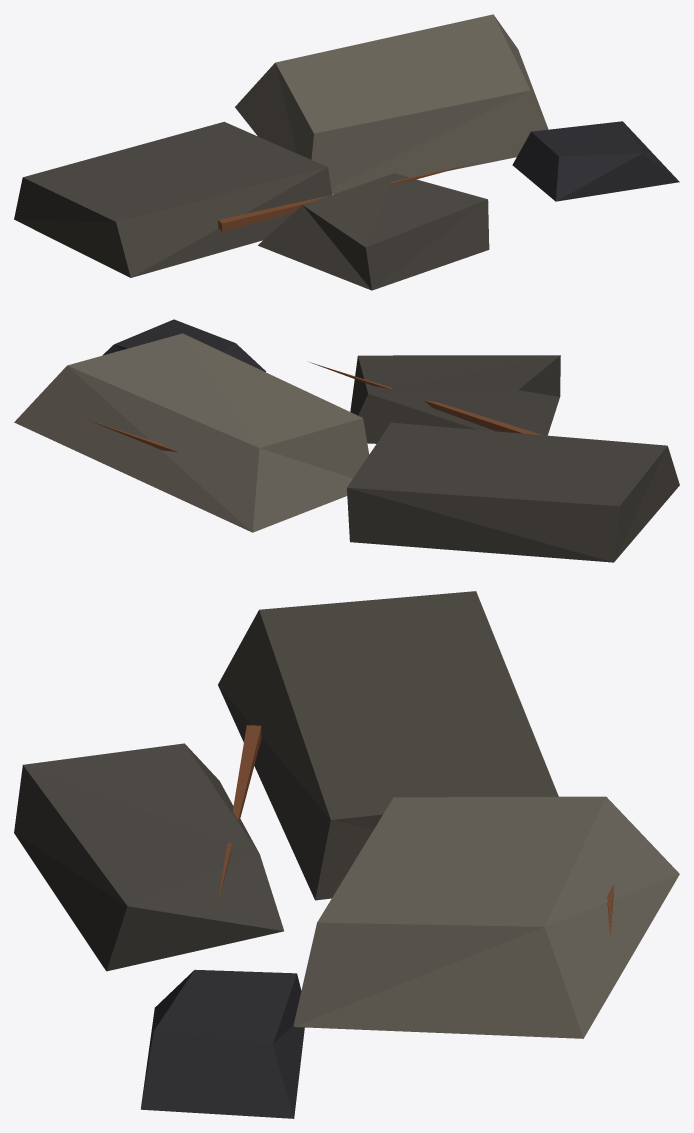
Rendered from SM_Debris_Pile.fbx.
The picture shows the model from 3 angles, top to bottom: view 1: azimuth 30°, elevation 25°; view 2: azimuth 150°, elevation 25°; view 3: azimuth 270°, elevation 25°; orthographic projection. The views are drawn at different scales.
Visible parts, largest first — view 1: SM_Debris_Pile; view 2: SM_Debris_Pile; view 3: SM_Debris_Pile.
Part boxes in pixels (<box>): SM_Debris_Pile: <box>14,14,679,290</box>; SM_Debris_Pile: <box>14,319,679,562</box>; SM_Debris_Pile: <box>14,591,679,1118</box>.
Size of the model in its own units: 3 by 0.5 by 1.95.
